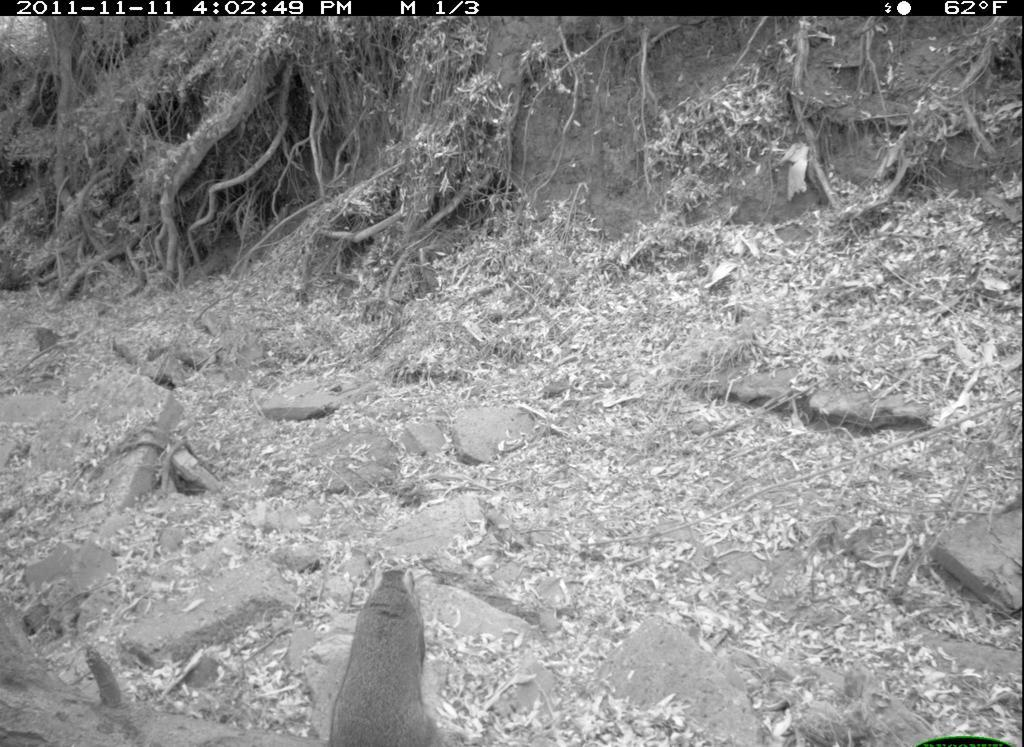squirrel: (318, 551, 457, 747)
